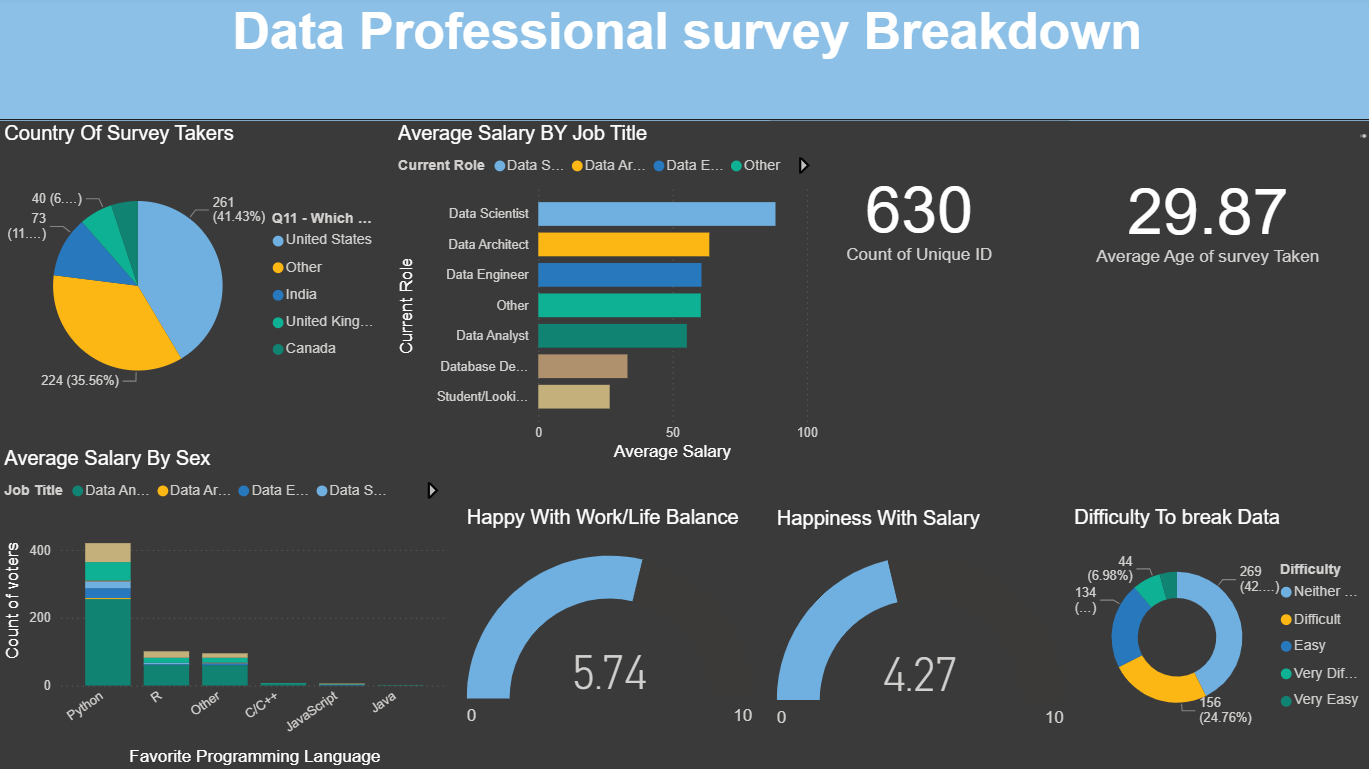

What the dashboard file says about the page in this screenshot:
{"tool":"powerbi","page":{"name":"Page 1","canvas":[1280,720],"ordinal":0},"visuals":[{"type":"textbox","box":[10,0,280,280],"z":0},{"type":"textbox","box":[10,570,280,150],"z":1000},{"type":"textbox","box":[0,0,1280.3,115.3],"z":2000},{"type":"textbox","box":[9.6,289.5,279.9,70],"z":3000},{"type":"card","fields":{"Values":["CountNonNull(Data Professional Survey.Unique ID)"]},"box":[717.1,115.7,277.6,173.5],"z":4000},{"type":"card","fields":{"Values":["Avg(Data Professional Survey.Q10 - Current Age)"]},"box":[982.9,117.1,284.3,172.9],"z":5000},{"type":"barChart","title":"Average Salary BY Job Title","fields":{"Category":["Data Professional Survey.Q1 - Which Title Best Fits your Current Role?.1"],"Y":["Avg(Data Professional Survey.Average Salary)"],"Series":["Data Professional Survey.Q1 - Which Title Best Fits your Current Role?.1"]},"box":[365.7,115.7,401.4,320],"z":6000},{"type":"columnChart","title":"Average Salary By Sex","fields":{"Category":["Data Professional Survey.Q5 - Favorite Programming Language.1"],"Y":["CountNonNull(Data Professional Survey.Unique ID)"],"Series":["Data Professional Survey.Q1 - Which Title Best Fits your Current Role?.1"]},"box":[0,418.6,422.9,301.4],"z":7000},{"type":"pieChart","title":"Country Of Survey Takers","fields":{"Category":["Data Professional Survey.Q11 - Which Country do you live in?.1"],"Y":["CountNonNull(Data Professional Survey.Q11 - Which Country do you live in?.1)"]},"box":[0,115.7,365.7,284.3],"z":8000},{"type":"gauge","title":"Happy With Work/Life Balance","fields":{"Y":["Avg(Data Professional Survey.Q6 - How Happy are you in your Current Position with the following? (Work/Life Balance))"],"MinValue":["Min(Data Professional Survey.Q6 - How Happy are you in your Current Position with the following? (Work/Life Balance))"],"MaxValue":["Max(Data Professional Survey.Q6 - How Happy are you in your Current Position with the following? (Work/Life Balance))"]},"box":[430,472.9,275.7,232.9],"z":9000},{"type":"gauge","title":"Happiness With Salary","fields":{"Y":["Avg(Data Professional Survey.Q6 - How Happy are you in your Current Position with the following? (Salary))"],"MinValue":["Min(Data Professional Survey.Q6 - How Happy are you in your Current Position with the following? (Salary))"],"MaxValue":["Max(Data Professional Survey.Q6 - How Happy are you in your Current Position with the following? (Salary))"]},"box":[718.6,474.3,277.1,232.9],"z":10000},{"type":"donutChart","title":"Difficulty To break Data","fields":{"Category":["Data Professional Survey.Q7 - How difficult was it for you to break into Data?"],"Y":["CountNonNull(Data Professional Survey.Q7 - How difficult was it for you to break into Data?)"]},"box":[995.7,472.9,284.3,224.3],"z":11000}]}

Visuals, with their boxes in screenshot pixels (x1, y1, x2, y2), scaled from the page's 1280x720 canvas onto the 1369x769 screenshot:
textbox: (x1=11, y1=0, x2=310, y2=299)
textbox: (x1=11, y1=609, x2=310, y2=768)
textbox: (x1=0, y1=0, x2=1368, y2=123)
textbox: (x1=10, y1=309, x2=310, y2=384)
card - CountNonNull(Data Professional Survey.Unique ID): (x1=767, y1=124, x2=1064, y2=309)
card - Avg(Data Professional Survey.Q10 - Current Age): (x1=1051, y1=125, x2=1355, y2=310)
"Average Salary BY Job Title" barChart: (x1=391, y1=124, x2=820, y2=465)
"Average Salary By Sex" columnChart: (x1=0, y1=447, x2=452, y2=768)
"Country Of Survey Takers" pieChart: (x1=0, y1=124, x2=391, y2=427)
"Happy With Work/Life Balance" gauge: (x1=460, y1=505, x2=755, y2=754)
"Happiness With Salary" gauge: (x1=769, y1=507, x2=1065, y2=755)
"Difficulty To break Data" donutChart: (x1=1065, y1=505, x2=1368, y2=745)
